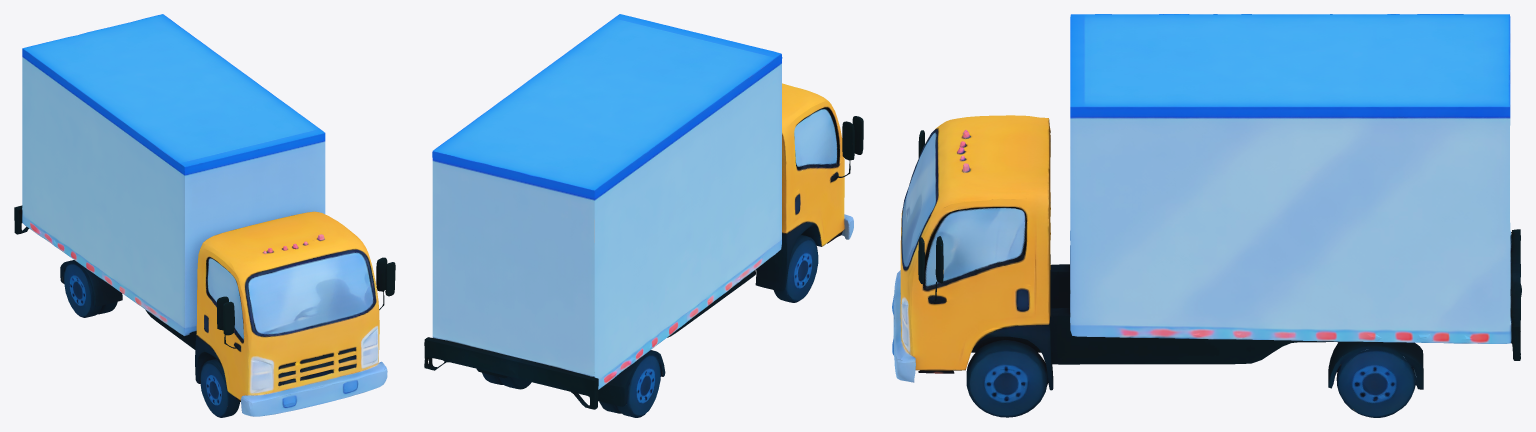
The model's file is camion.glb.
3 renders of one model, left to right at view 1: azimuth 30°, elevation 25°; view 2: azimuth 150°, elevation 25°; view 3: azimuth 270°, elevation 25°, orthographic. The views are drawn at different scales.
Visible parts, largest first — view 1: Mesh; view 2: Mesh; view 3: Mesh.
Part boxes in pixels (x1,y1,x2,y2): Mesh: (14, 14, 395, 417); Mesh: (424, 14, 863, 417); Mesh: (892, 14, 1521, 417).
Bounding box in the file's own units: 0.8027 × 1.04 × 1.88.
1 material, 1 textured.
